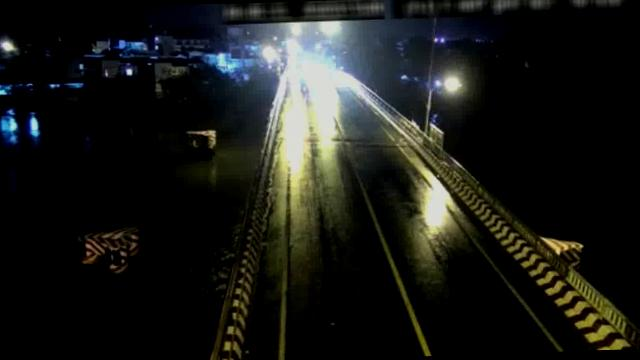Bike: (298, 78, 312, 99)
